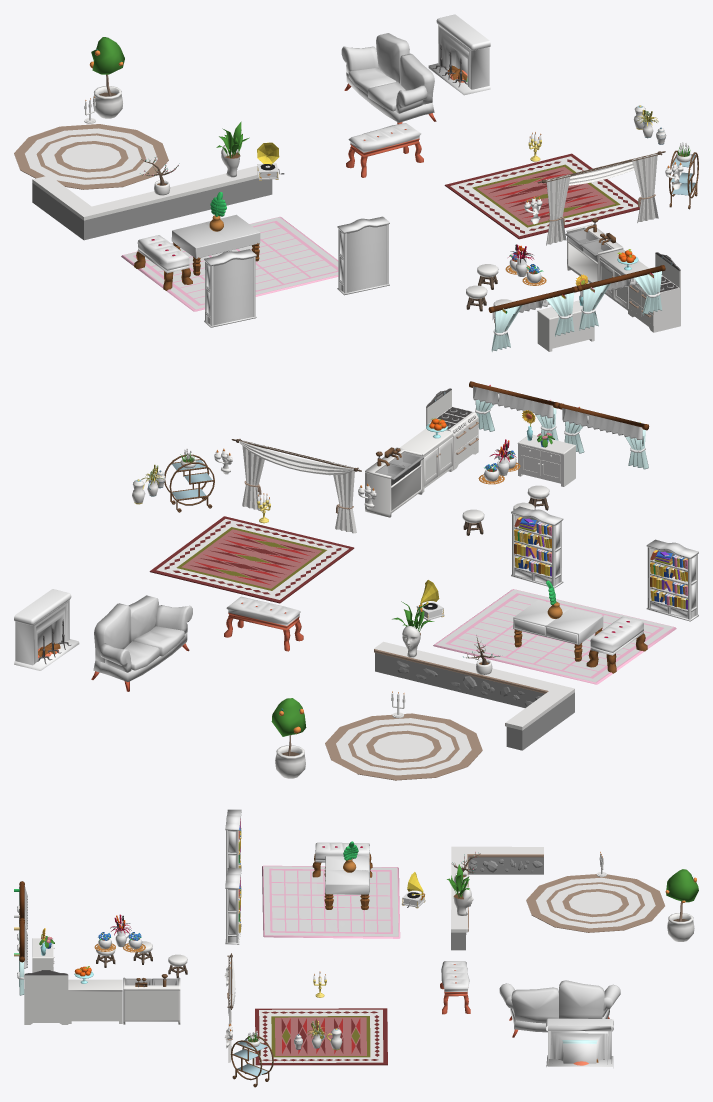
File: MaterialFixMeshes.fbx
3 renders of one model, top to bottom at view 1: azimuth 30°, elevation 25°; view 2: azimuth 150°, elevation 25°; view 3: azimuth 270°, elevation 25°, orthographic. The views are drawn at different scales.
Visible parts, largest first — view 1: Rug_Patterned_Rectangular, Sofa_Classic, Rug.001, Rug_Pastel_Striped.001, Counter_Stone_Modern, Living_Room_Bookshelf.003, Living_Room_Bookshelf.001, Rug_Pastel_Striped, Fireplace_Traditional, Curtains_Draped_Heavy .001, Counter_Stone_Modern.001, Rug_Patterned_Rectangular.001 (+20 smaller); view 2: Rug_Patterned_Rectangular, Rug.001, Sofa_Classic, Rug_Pastel_Striped.001, Counter_Stone_Modern, Rug_Pastel_Striped, Fireplace_Traditional, Counter_Stone_Modern.001, Curtains_Draped_Heavy .001, Rug, Rug_Patterned_Rectangular.001, CoffeeTable_Wooden.001 (+21 smaller); view 3: Rug.001, Rug_Patterned_Rectangular, Sofa_Classic, Rug_Pastel_Striped.001, Fireplace_Traditional, Rug_Pastel_Striped, Rug, Rug_Patterned_Rectangular.001, Stove_Oven_Combo, Sink_Double_Basin.001, Kitchen Counter_Cabinet, Counter_Stone_Modern.001 (+15 smaller).
Boxes of the visible parts, x1=… form: Rug_Patterned_Rectangular: x1=444, y1=153, x2=640, y2=239; Sofa_Classic: x1=341, y1=33, x2=434, y2=122; Rug.001: x1=124, y1=217, x2=338, y2=309; Rug_Pastel_Striped.001: x1=25, y1=128, x2=157, y2=184; Counter_Stone_Modern: x1=32, y1=178, x2=272, y2=240; Living_Room_Bookshelf.003: x1=204, y1=249, x2=256, y2=327; Living_Room_Bookshelf.001: x1=337, y1=216, x2=389, y2=295; Rug_Pastel_Striped: x1=14, y1=124, x2=168, y2=189; Fireplace_Traditional: x1=428, y1=14, x2=490, y2=95; Curtains_Draped_Heavy .001: x1=546, y1=152, x2=658, y2=245; Counter_Stone_Modern.001: x1=32, y1=165, x2=258, y2=220; Rug_Patterned_Rectangular.001: x1=450, y1=156, x2=637, y2=236; Rug_Patterned_Rectangular: x1=149, y1=516, x2=354, y2=603; Rug.001: x1=436, y1=589, x2=673, y2=682; Sofa_Classic: x1=93, y1=595, x2=192, y2=681; Rug_Pastel_Striped.001: x1=336, y1=718, x2=471, y2=775; Counter_Stone_Modern: x1=375, y1=652, x2=574, y2=750; Rug_Pastel_Striped: x1=325, y1=713, x2=482, y2=780; Fireplace_Traditional: x1=14, y1=589, x2=79, y2=670; Counter_Stone_Modern.001: x1=374, y1=641, x2=574, y2=730; Curtains_Draped_Heavy .001: x1=239, y1=440, x2=356, y2=533; Rug: x1=433, y1=589, x2=676, y2=684; Rug_Patterned_Rectangular.001: x1=156, y1=519, x2=348, y2=599; CoffeeTable_Wooden.001: x1=513, y1=600, x2=603, y2=644; Rug.001: x1=263, y1=866, x2=398, y2=936; Rug_Patterned_Rectangular: x1=255, y1=1008, x2=387, y2=1065; Sofa_Classic: x1=499, y1=980, x2=620, y2=1032; Rug_Pastel_Striped.001: x1=536, y1=877, x2=655, y2=928; Fireplace_Traditional: x1=546, y1=1018, x2=613, y2=1068; Rug_Pastel_Striped: x1=526, y1=874, x2=664, y2=932; Rug: x1=262, y1=865, x2=400, y2=938; Rug_Patterned_Rectangular.001: x1=259, y1=1009, x2=383, y2=1062; Stove_Oven_Combo: x1=24, y1=970, x2=68, y2=1024; Sink_Double_Basin.001: x1=123, y1=977, x2=180, y2=1024; Kitchen Counter_Cabinet: x1=68, y1=966, x2=122, y2=1023; Counter_Stone_Modern.001: x1=451, y1=846, x2=543, y2=932.
Size of the model in its own units: 8637 by 1284 by 11186.
